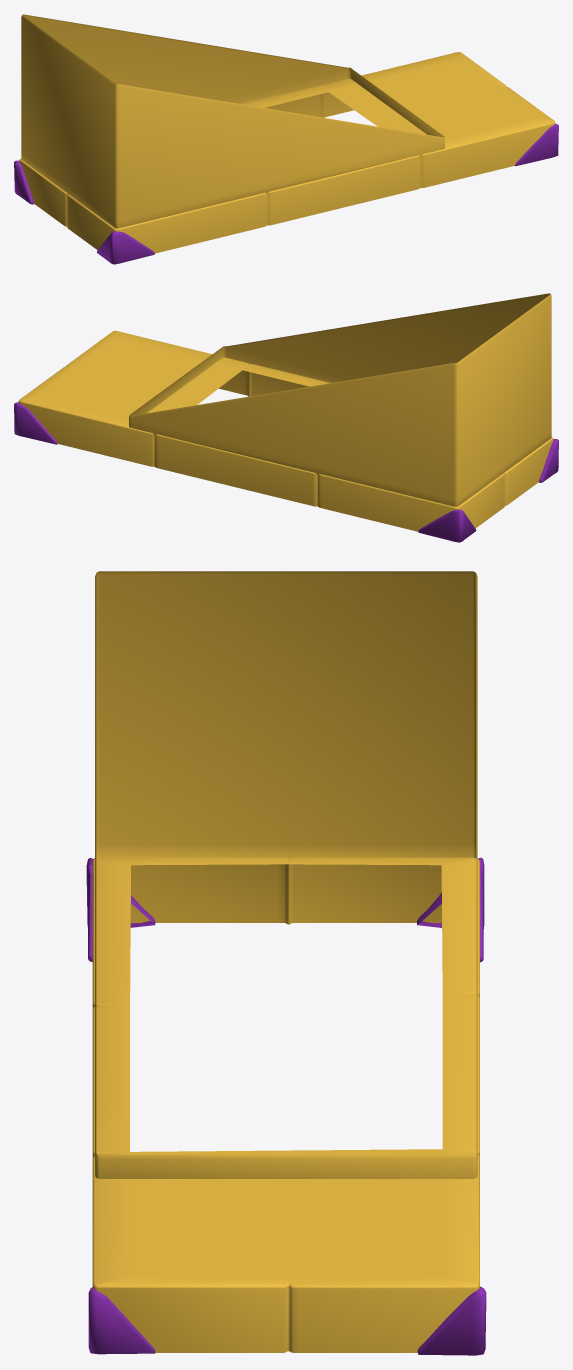
Rendered from HoopsRampWall2.fbx.
The picture shows the model from 3 angles, top to bottom: view 1: azimuth 30°, elevation 25°; view 2: azimuth 150°, elevation 25°; view 3: azimuth 270°, elevation 25°; orthographic projection. The views are drawn at different scales.
Visible parts, largest first — view 1: ENv_S02_Ramp_MO_1, ENv_S02_Ramp_MO_0; view 2: ENv_S02_Ramp_MO_1, ENv_S02_Ramp_MO_0; view 3: ENv_S02_Ramp_MO_1, ENv_S02_Ramp_MO_0.
Part boxes in pixels (x1,y1,x2,y2): ENv_S02_Ramp_MO_1: (19,14,555,253); ENv_S02_Ramp_MO_0: (14,124,558,264); ENv_S02_Ramp_MO_1: (18,293,553,531); ENv_S02_Ramp_MO_0: (14,402,558,542); ENv_S02_Ramp_MO_1: (92,571,479,1352); ENv_S02_Ramp_MO_0: (86,857,486,1355).
Bounding box in the file's own units: 29.87 × 11.32 × 11.55.
